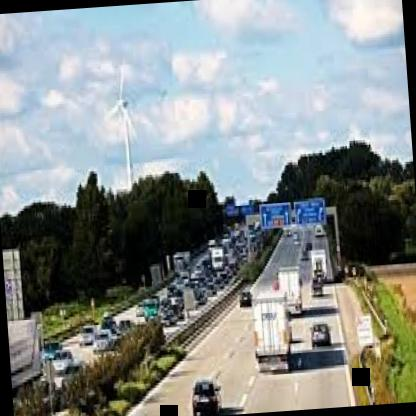car: (244, 292, 297, 387), (178, 371, 232, 416), (278, 260, 308, 332), (304, 310, 338, 358), (307, 242, 333, 300), (91, 320, 115, 360), (236, 282, 260, 318), (74, 320, 98, 350), (140, 292, 160, 324), (208, 242, 226, 274)
